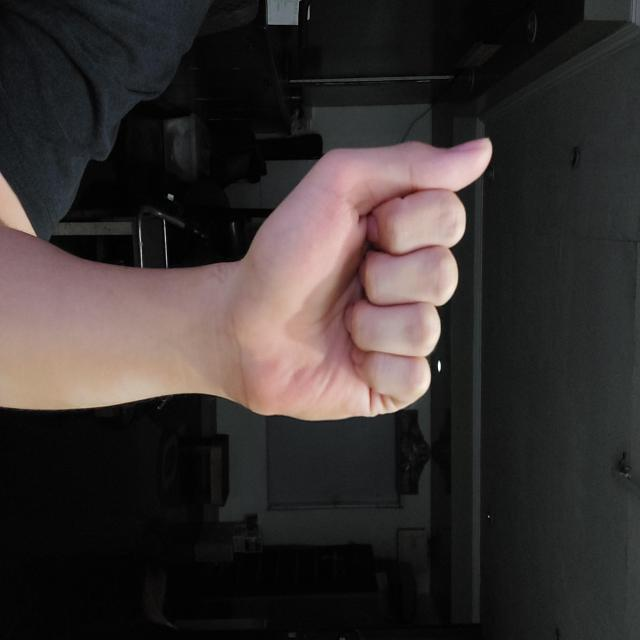A: (136, 147, 422, 407)
